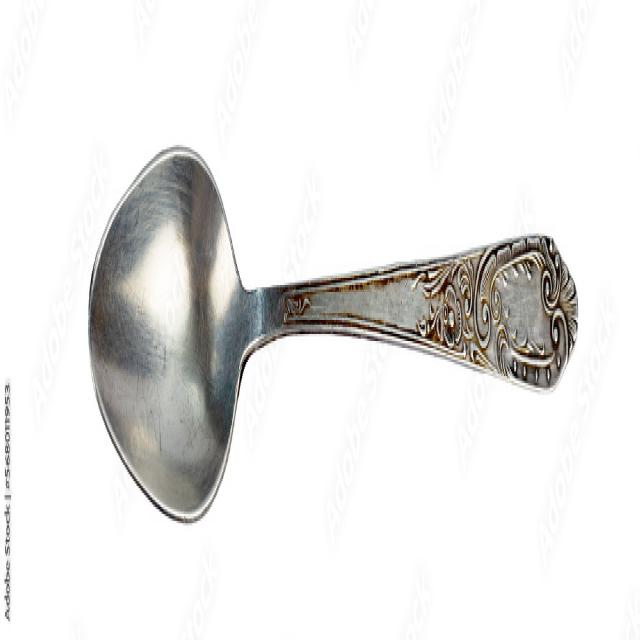spoon: (82, 134, 586, 532)
